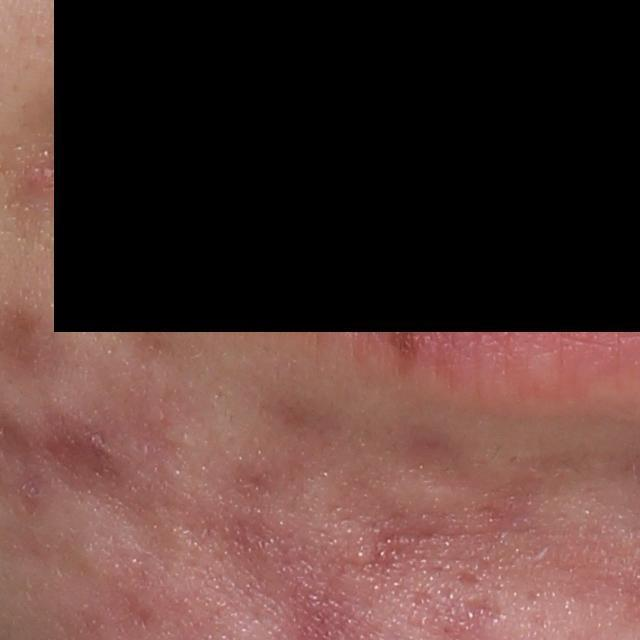atrophic_scar: (404, 431, 473, 492), (458, 595, 503, 623), (456, 571, 483, 589)
